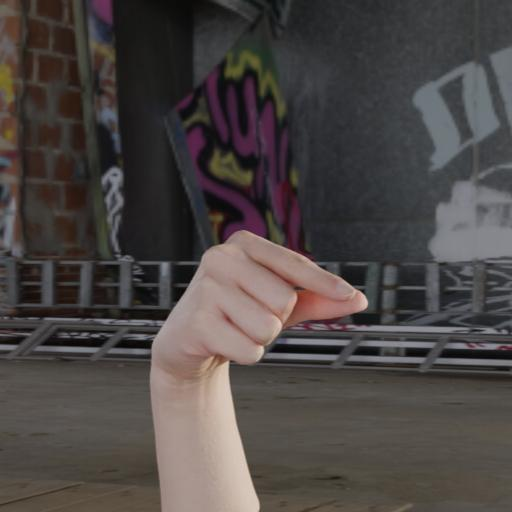G: (138, 225, 376, 397)
